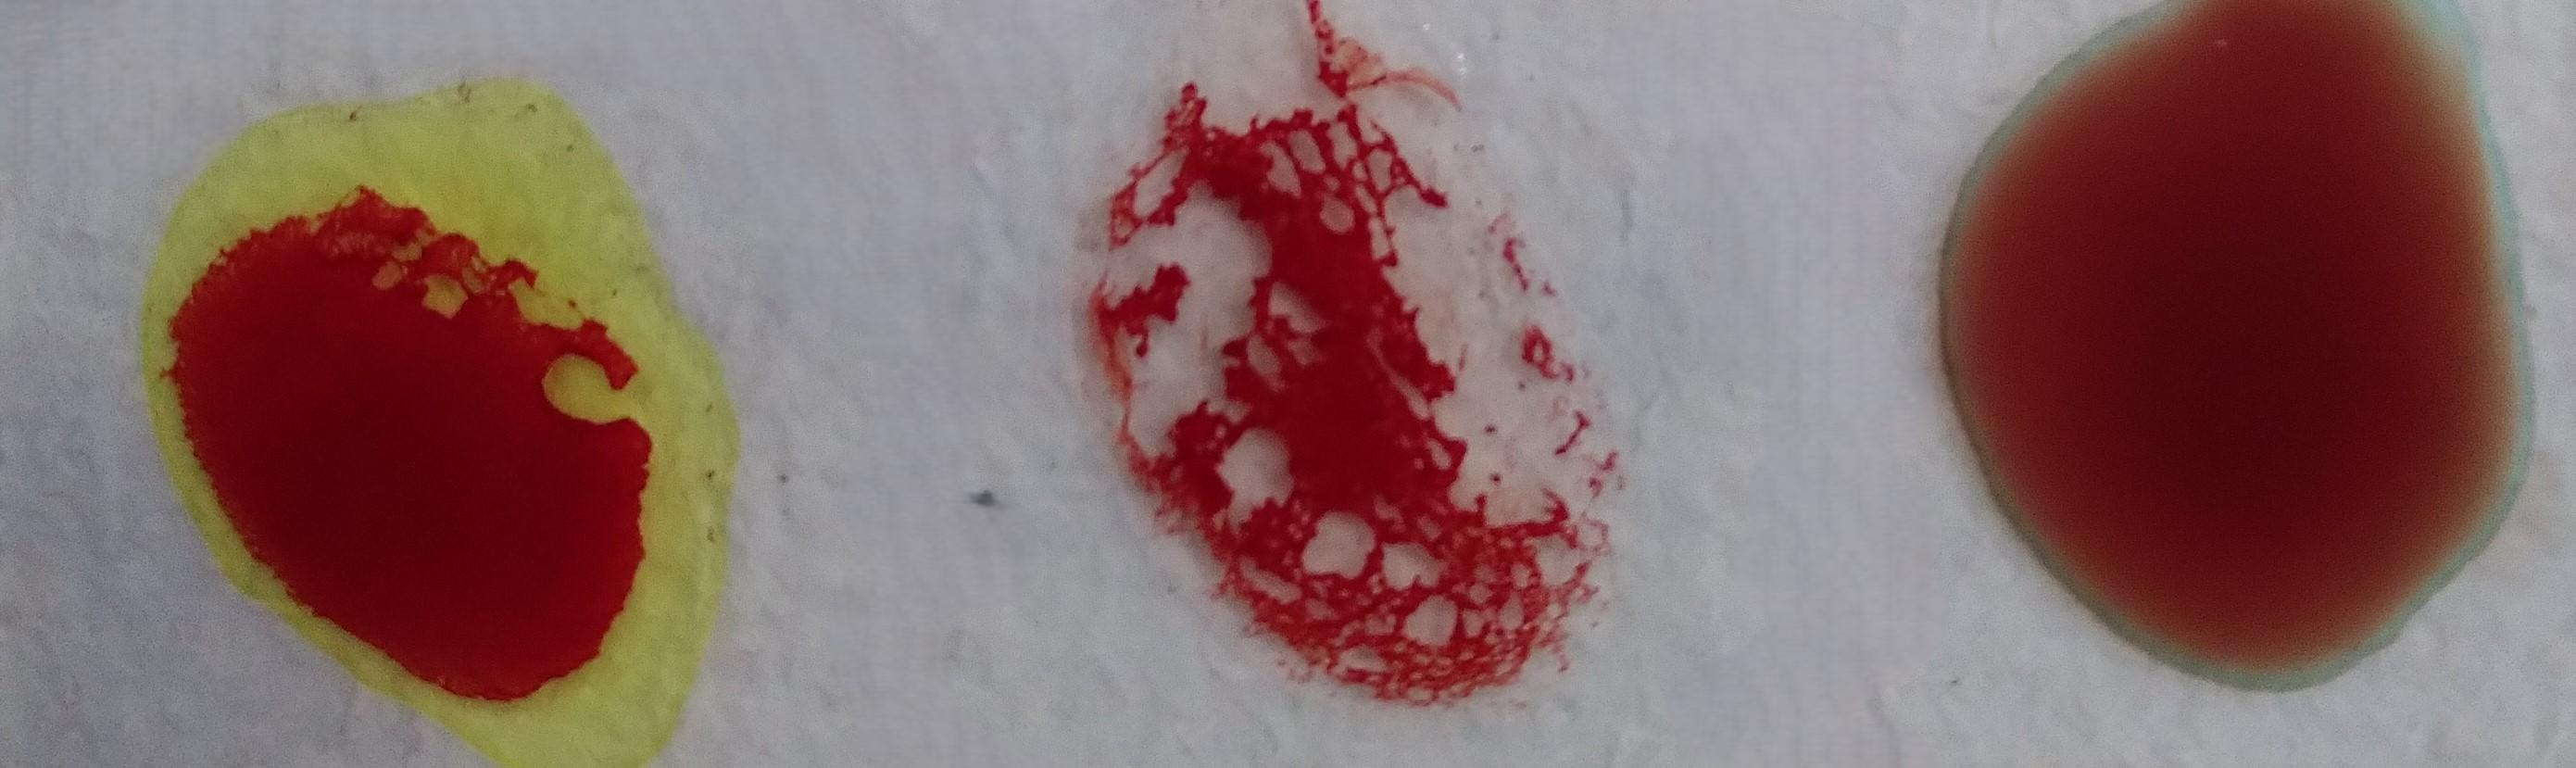B: (153, 95, 693, 768)
D: (1091, 56, 1572, 704)
